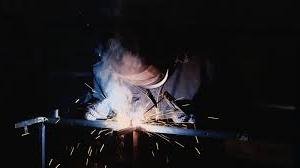controlled_fire: (89, 84, 200, 134)
